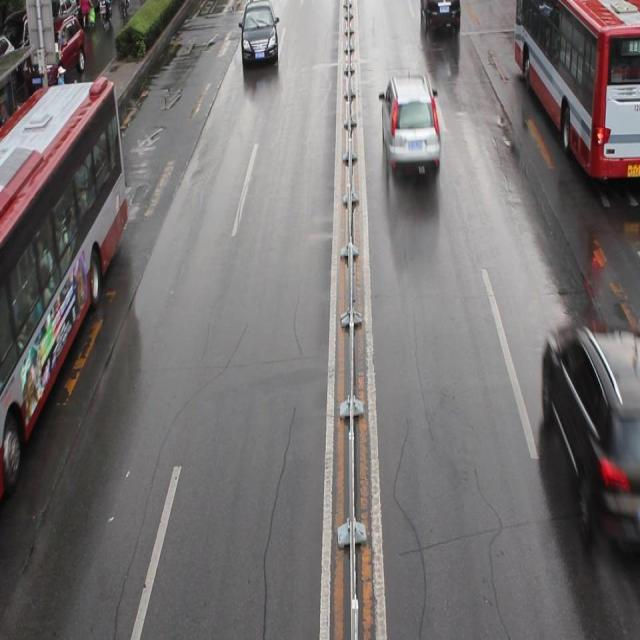car: (537, 328, 640, 549), (382, 74, 439, 168), (32, 17, 87, 92), (240, 1, 279, 65), (418, 1, 461, 38)
van: (0, 78, 126, 513), (511, 1, 640, 180)
